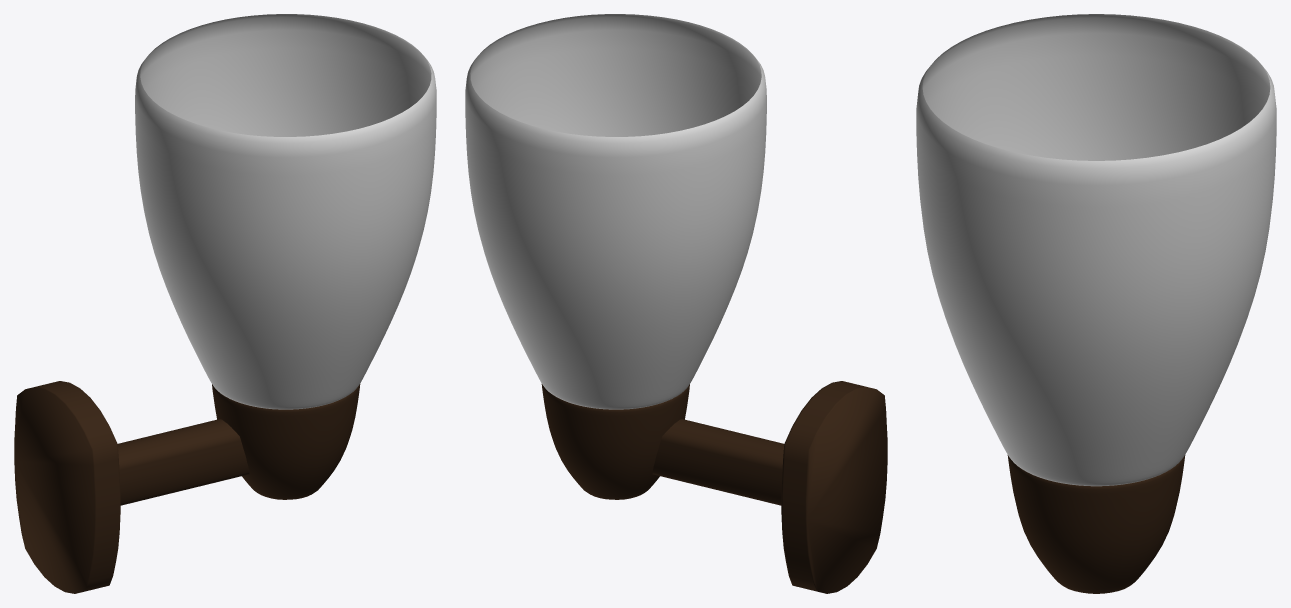
The model's file is WallLight.fbx.
3 views of the same model, side by side, from view 1: azimuth 30°, elevation 25°; view 2: azimuth 150°, elevation 25°; view 3: azimuth 270°, elevation 25° (orthographic). The views are drawn at different scales.
Parts seen in each view (by area): view 1: genericLamp_glass, genericLamp_base, genericLamp_receptacle, genericLamp_arm; view 2: genericLamp_glass, genericLamp_base, genericLamp_receptacle, genericLamp_arm; view 3: genericLamp_glass, genericLamp_receptacle.
Part boxes in pixels (bbox=[...]): genericLamp_glass: bbox=[135, 14, 436, 409]; genericLamp_base: bbox=[14, 381, 120, 593]; genericLamp_receptacle: bbox=[212, 384, 360, 499]; genericLamp_arm: bbox=[117, 419, 249, 505]; genericLamp_glass: bbox=[465, 14, 766, 409]; genericLamp_base: bbox=[781, 381, 887, 593]; genericLamp_receptacle: bbox=[541, 384, 689, 499]; genericLamp_arm: bbox=[652, 419, 784, 505]; genericLamp_glass: bbox=[916, 14, 1276, 486]; genericLamp_receptacle: bbox=[1007, 455, 1185, 593].
Size of the model in its own units: 37.14 by 44.55 by 26.83.
